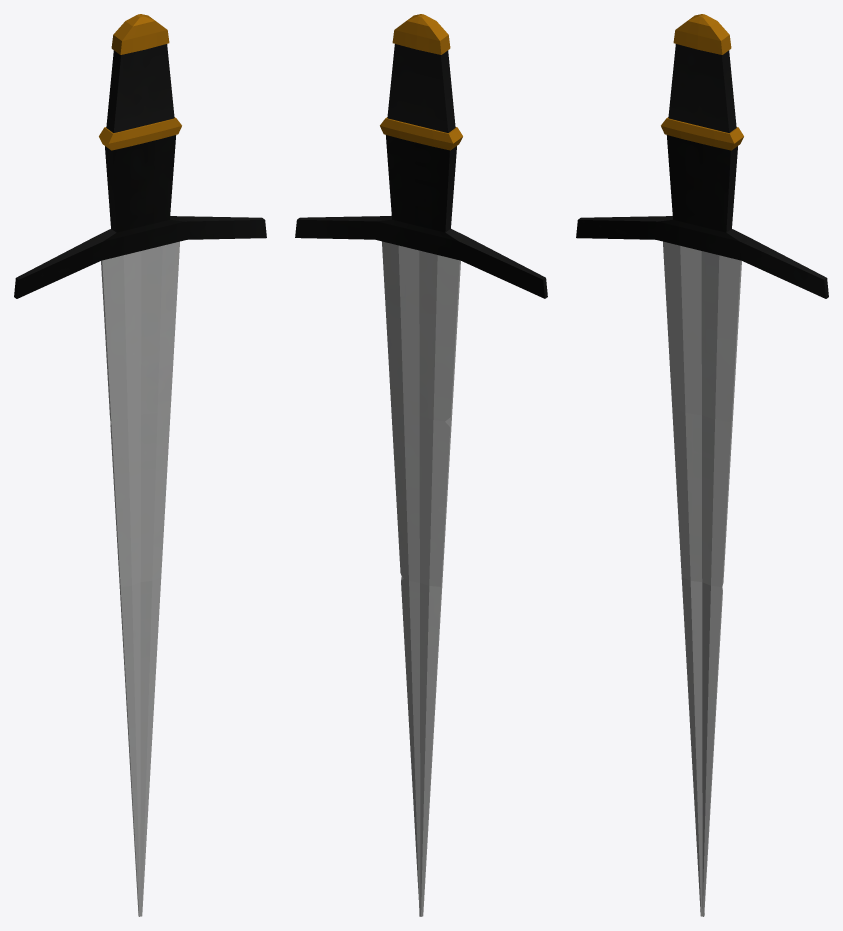
Rendered from Sword_1.fbx.
The picture shows the model from 3 angles, left to right: view 1: azimuth 30°, elevation 25°; view 2: azimuth 150°, elevation 25°; view 3: azimuth 330°, elevation 25°; orthographic projection.
Visible parts, largest first — view 1: Sword 1; view 2: Sword 1; view 3: Sword 1.
Part boxes in pixels (x1=…): Sword 1: x1=14, y1=14, x2=266, y2=916; Sword 1: x1=295, y1=14, x2=547, y2=916; Sword 1: x1=576, y1=14, x2=828, y2=916.
Bounding box in the file's own units: 27.37 × 94.17 × 2.02.
